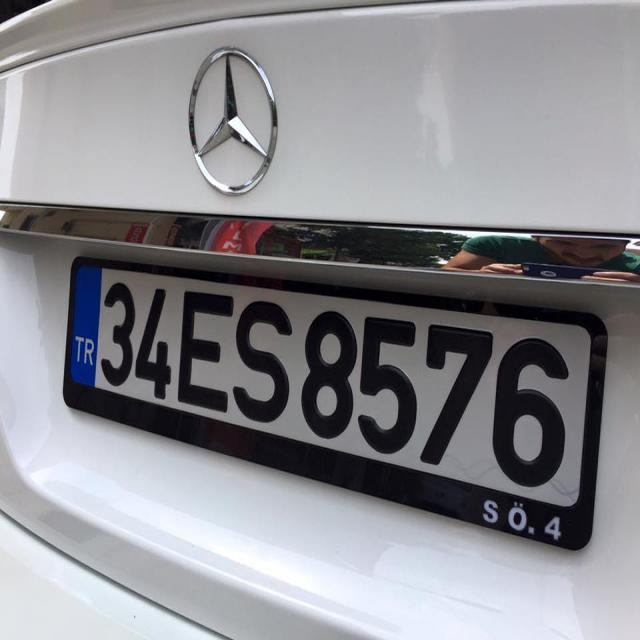plate: (59, 255, 616, 555)
